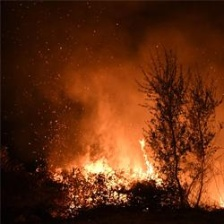fire: (54, 136, 192, 207)
